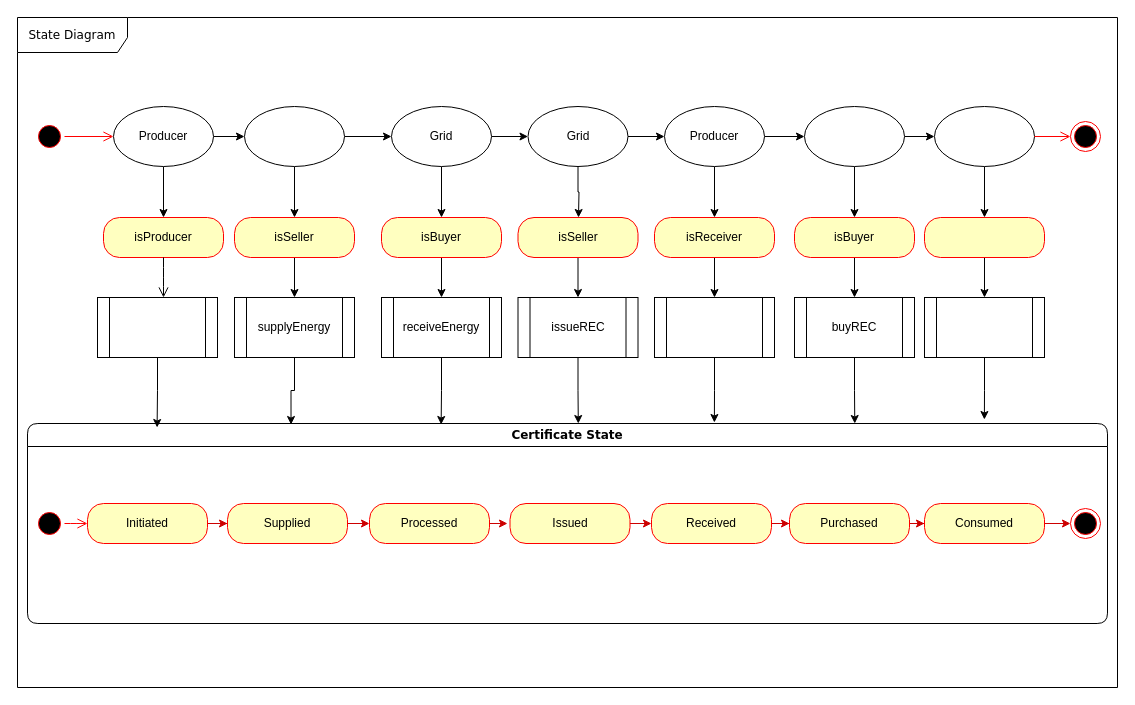
Image size: 1135x705. Some labels were removed from this diagram. The shapes that lost their labels are listed below. From the top down, each one's centre as x and y in pixels, then its label:
At point 294,136: "Produer".
At point 854,136: "Utility".
At point 984,136: "Consumer".
At point 984,237: "isConsumer".
At point 157,327: "producedEnergy".
At point 714,327: "receiveREC".
At point 984,327: "consumeREC".
